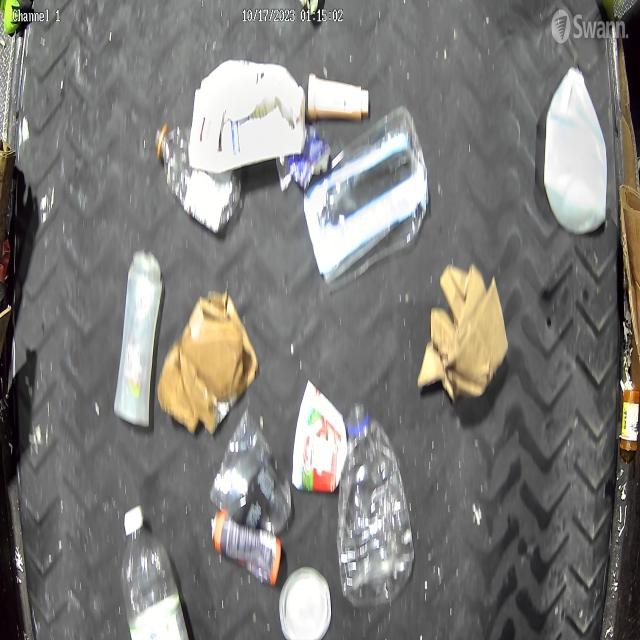milk_jug: (545, 72, 608, 230)
plastic_bottle: (338, 402, 412, 608), (123, 504, 193, 639), (156, 127, 244, 232)
